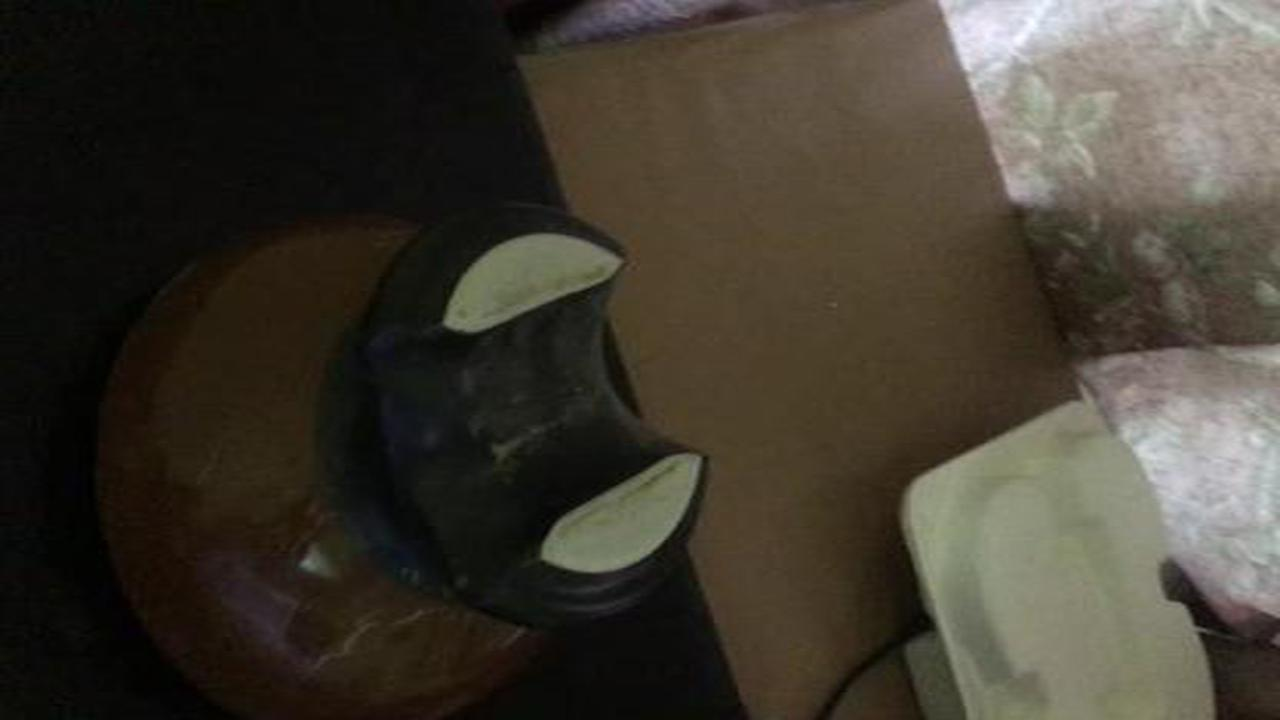insulator_pin: (68, 198, 733, 720)
